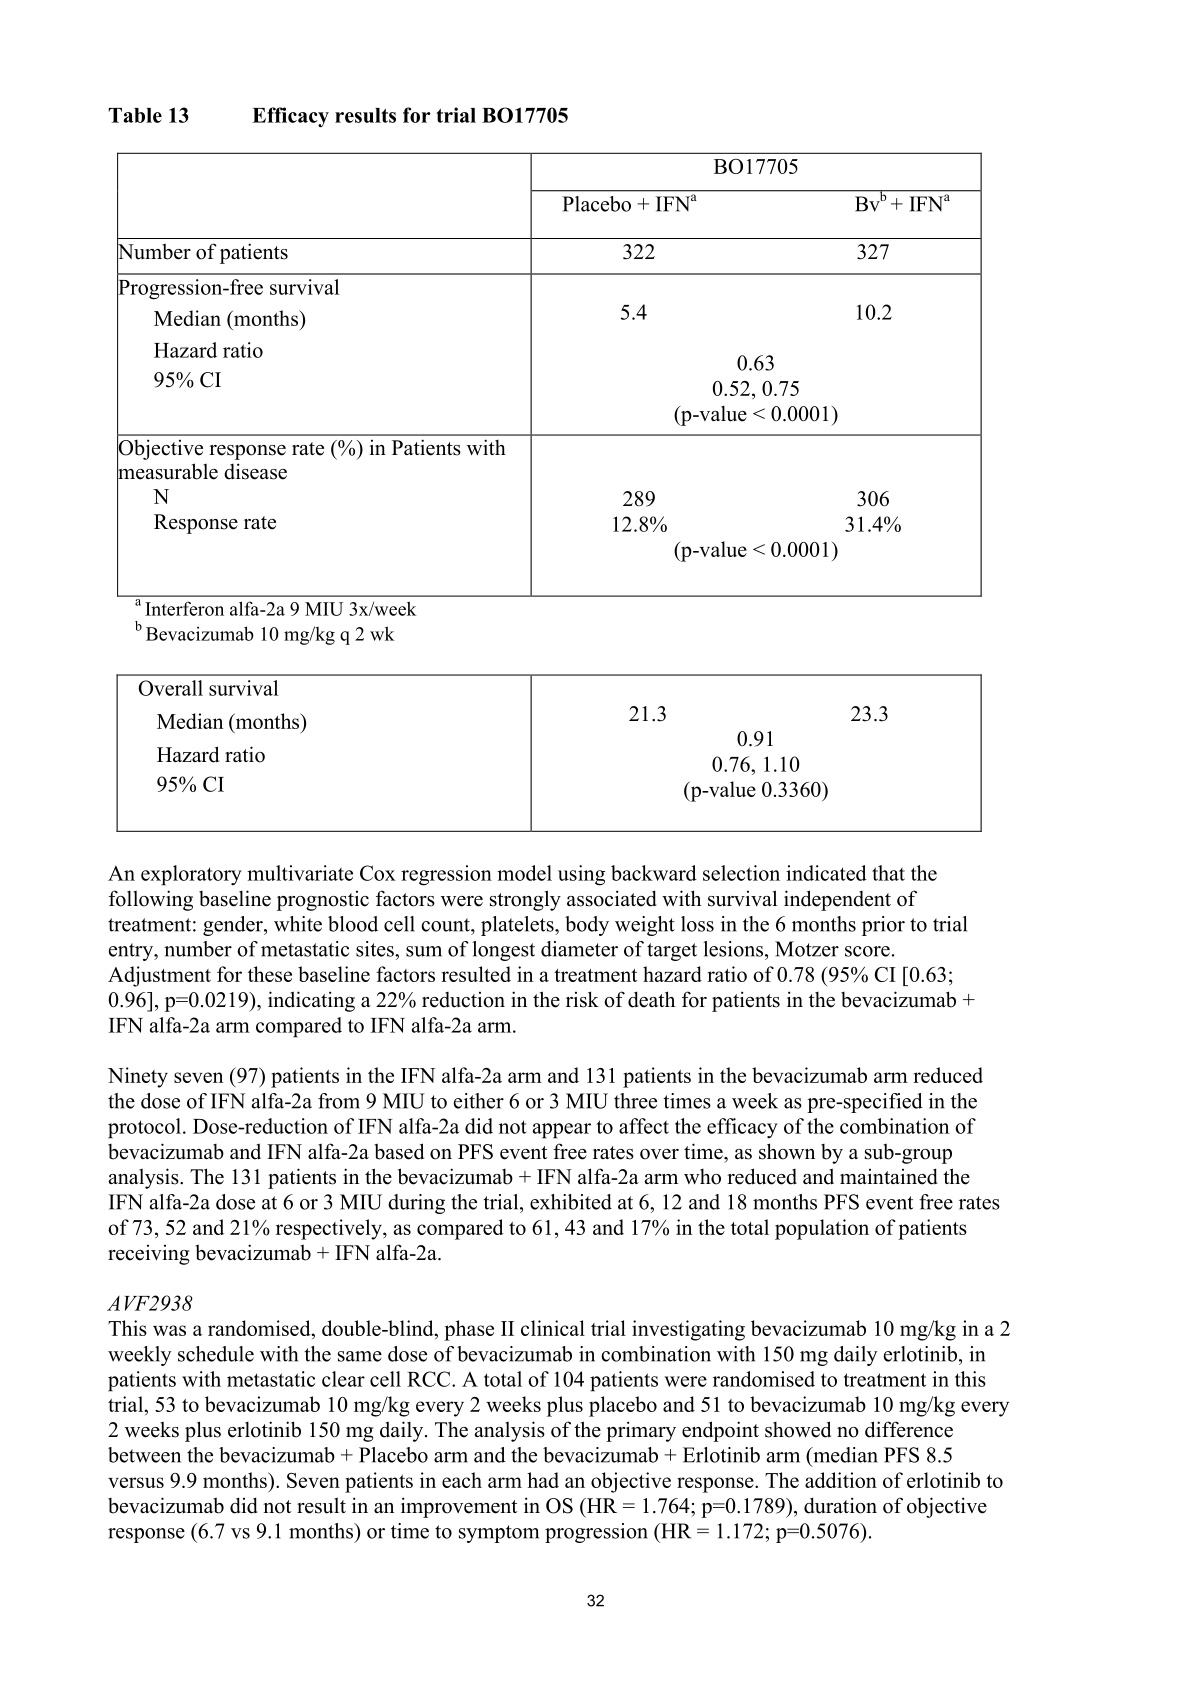partial_lined: (115, 673, 983, 834)
partial_lined_merged_cells: (117, 152, 983, 597)
